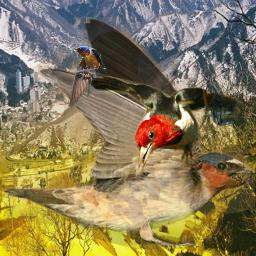Swallow: (1, 17, 255, 249), (68, 45, 107, 107)
Woodpecker: (75, 67, 241, 181)
